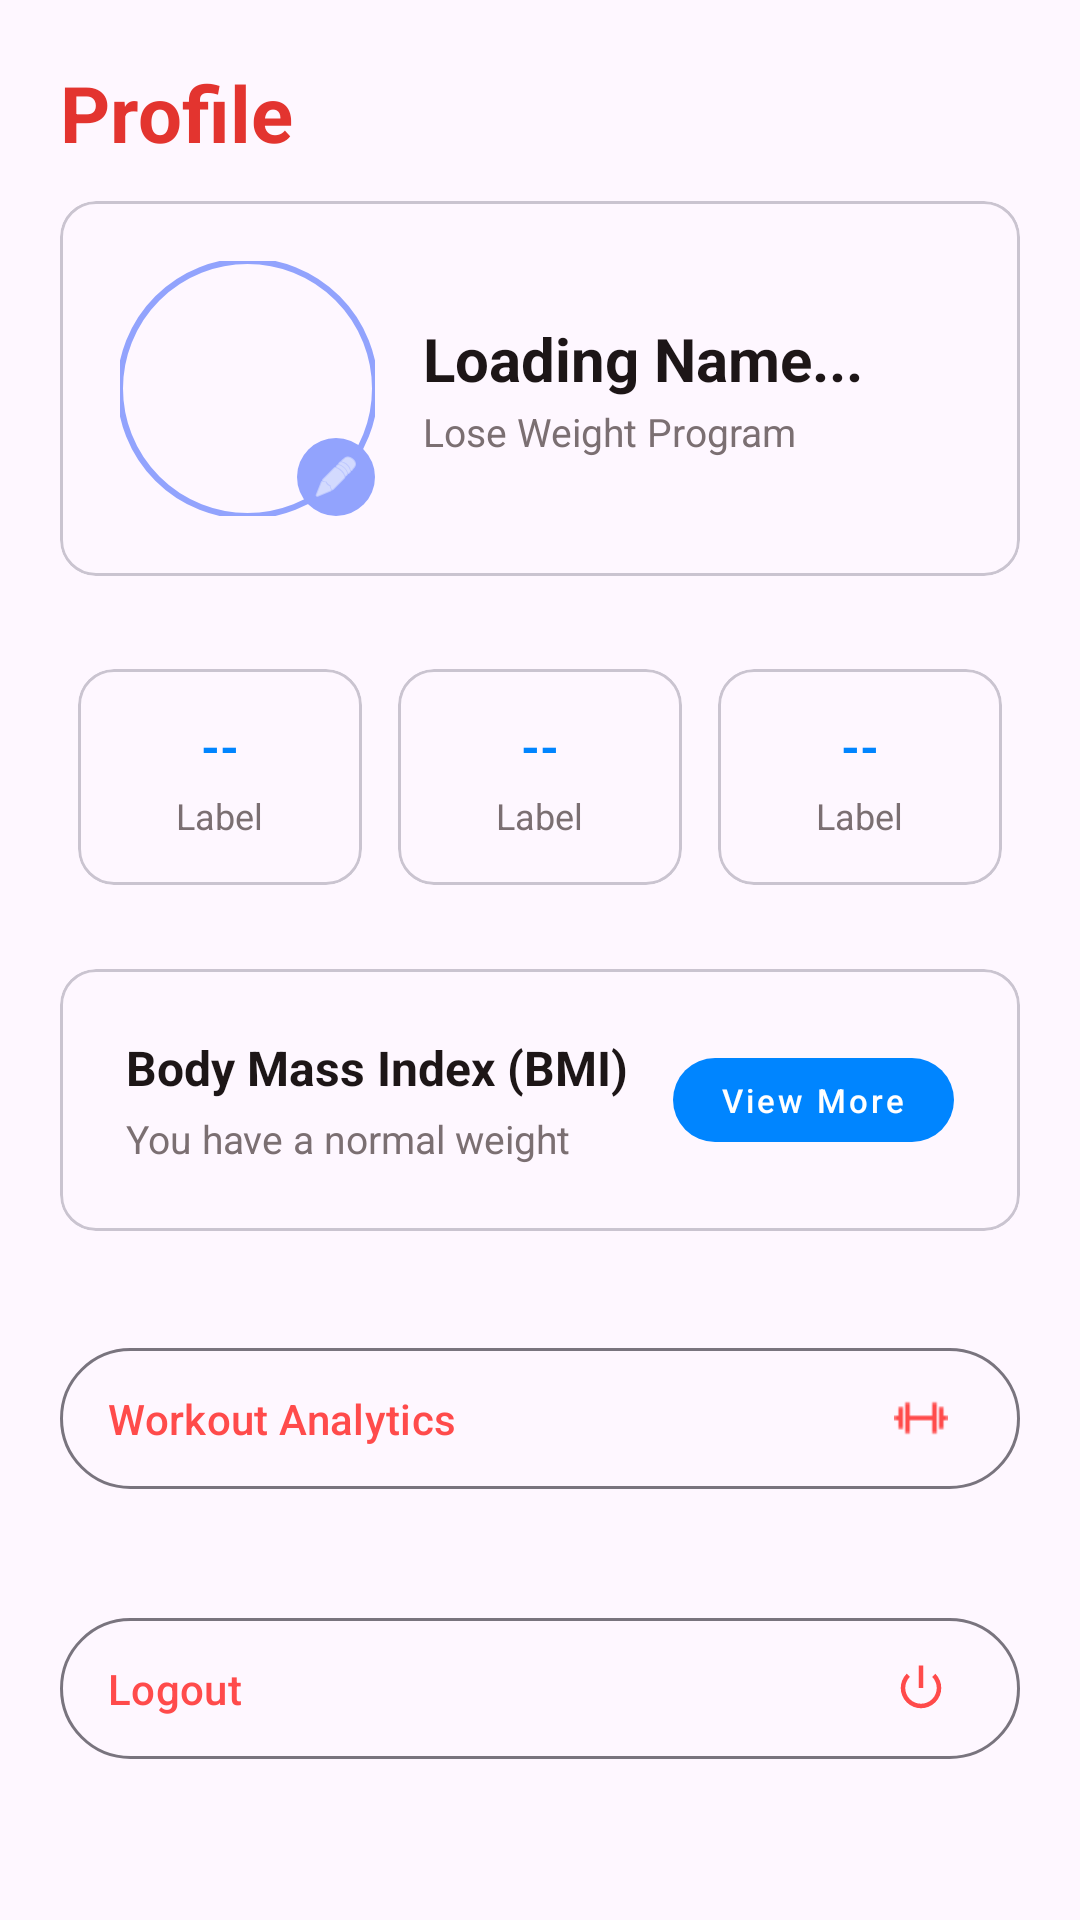

Where icons sit on this 1080x1920 app screen, as box=[x1, y1, x2, y2]:
edit: box=[297, 438, 375, 516]
